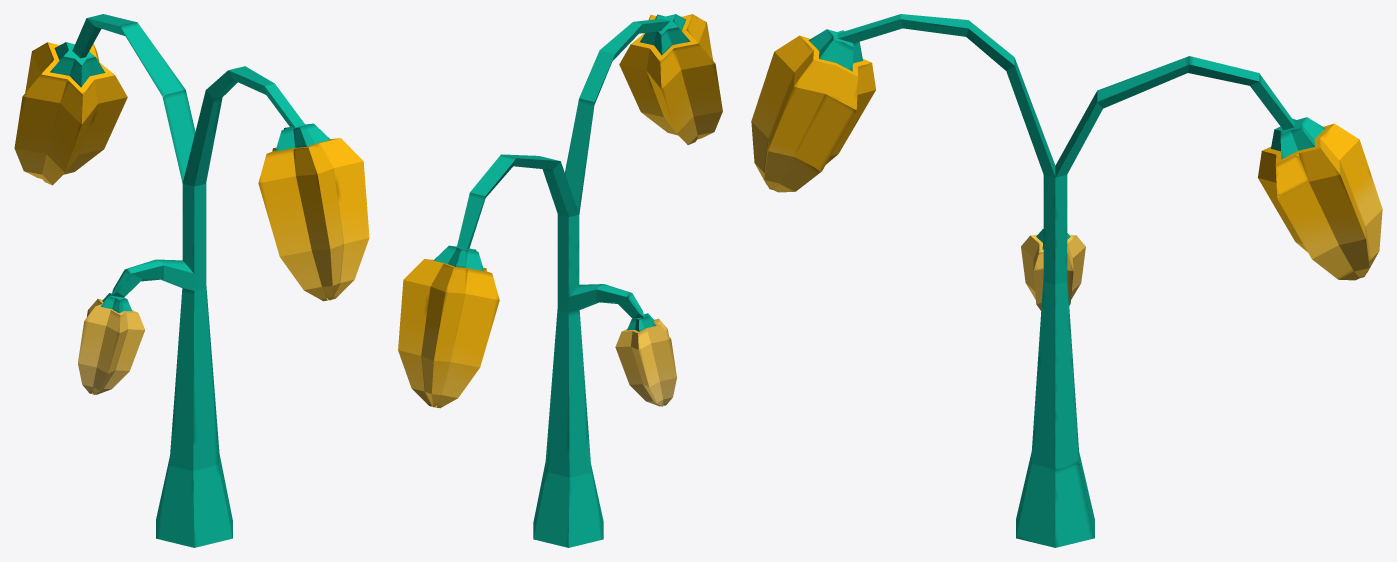
The picture shows the model from 3 angles, left to right: view 1: azimuth 30°, elevation 25°; view 2: azimuth 150°, elevation 25°; view 3: azimuth 270°, elevation 25°; orthographic projection. The views are drawn at different scales.
Visible parts, largest first — view 1: SF3; view 2: SF3; view 3: SF3.
Part boxes in pixels (x1,y1,x2,y2): SF3: (14,14,369,547); SF3: (398,14,722,547); SF3: (751,14,1382,547).
Bounding box in the file's own units: 29.89 × 89.64 × 100.
1 material, 1 textured.
